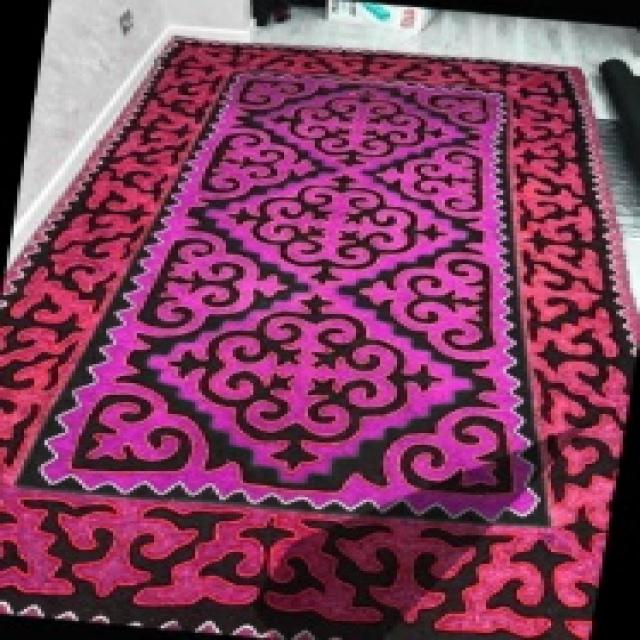Unity: (155, 290, 459, 480), (210, 171, 459, 288), (263, 86, 458, 169)
